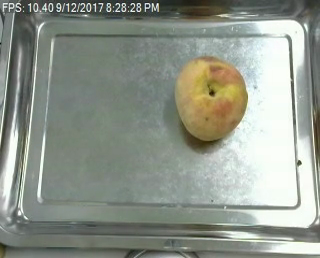Peach: (174, 55, 249, 141)
